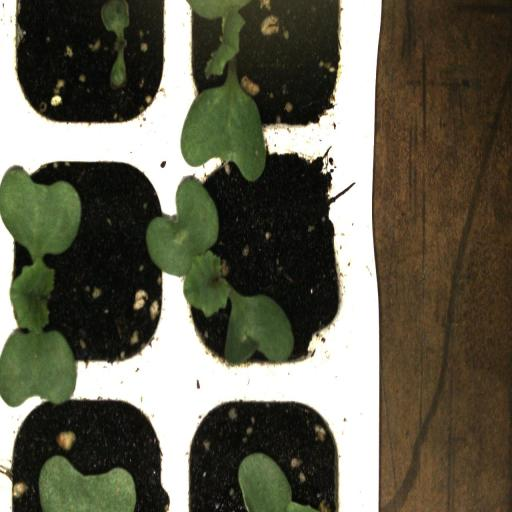Folha: (38, 455, 137, 512), (238, 452, 317, 512)
Germinacao: (180, 147, 342, 374), (2, 152, 173, 366), (174, 0, 352, 143), (4, 0, 170, 144)
